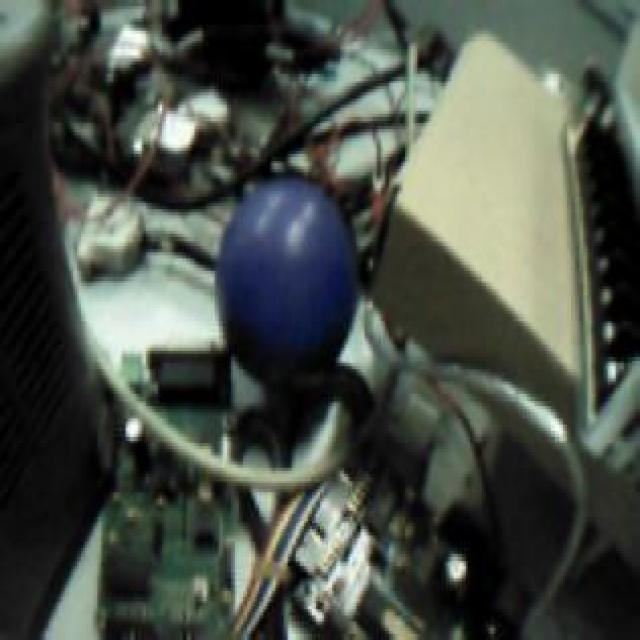BallPurple: (209, 184, 355, 373)
